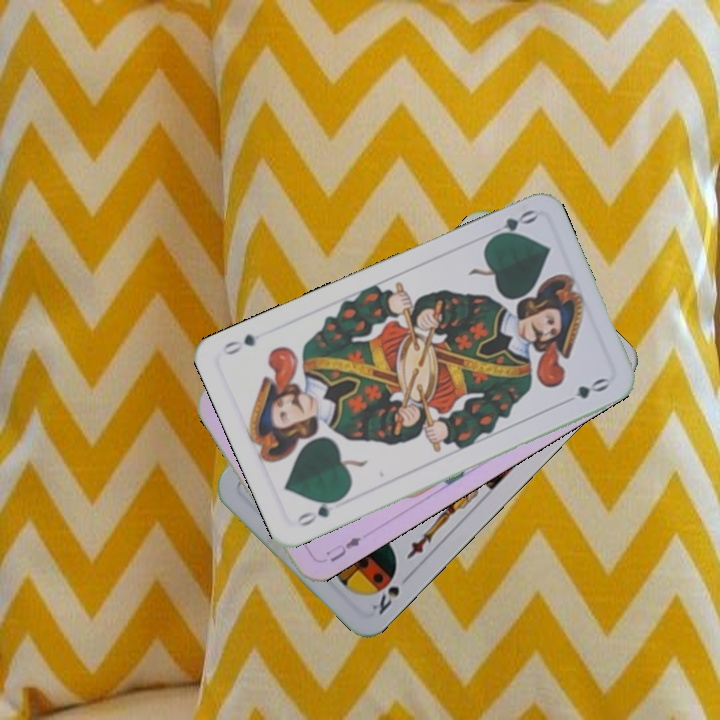EU: (321, 532, 364, 565)
GO: (482, 205, 539, 244), (293, 493, 346, 529)
SK: (368, 568, 402, 618)
